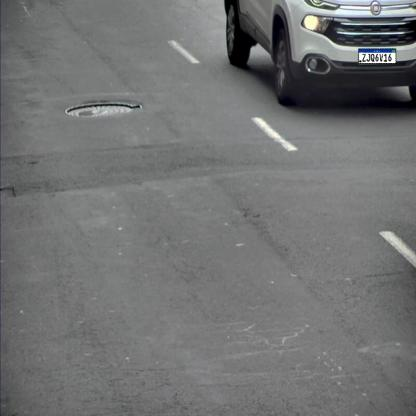PlacaM: (359, 48, 396, 64)
